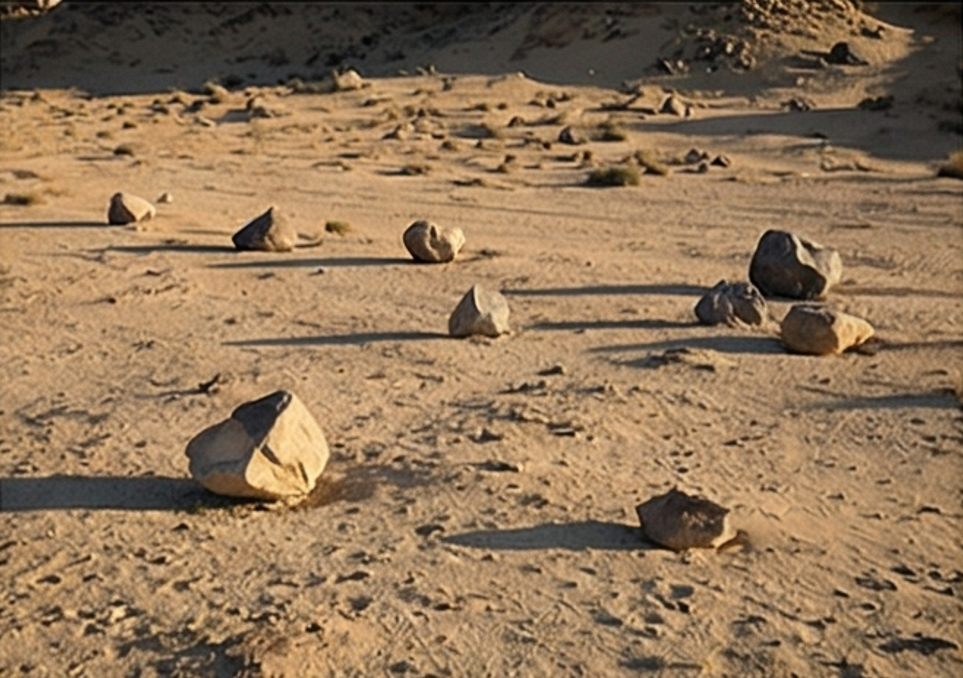rocks: (696, 230, 874, 353), (187, 390, 328, 499), (637, 490, 736, 549), (448, 284, 509, 336), (232, 207, 297, 251), (403, 220, 464, 262)
